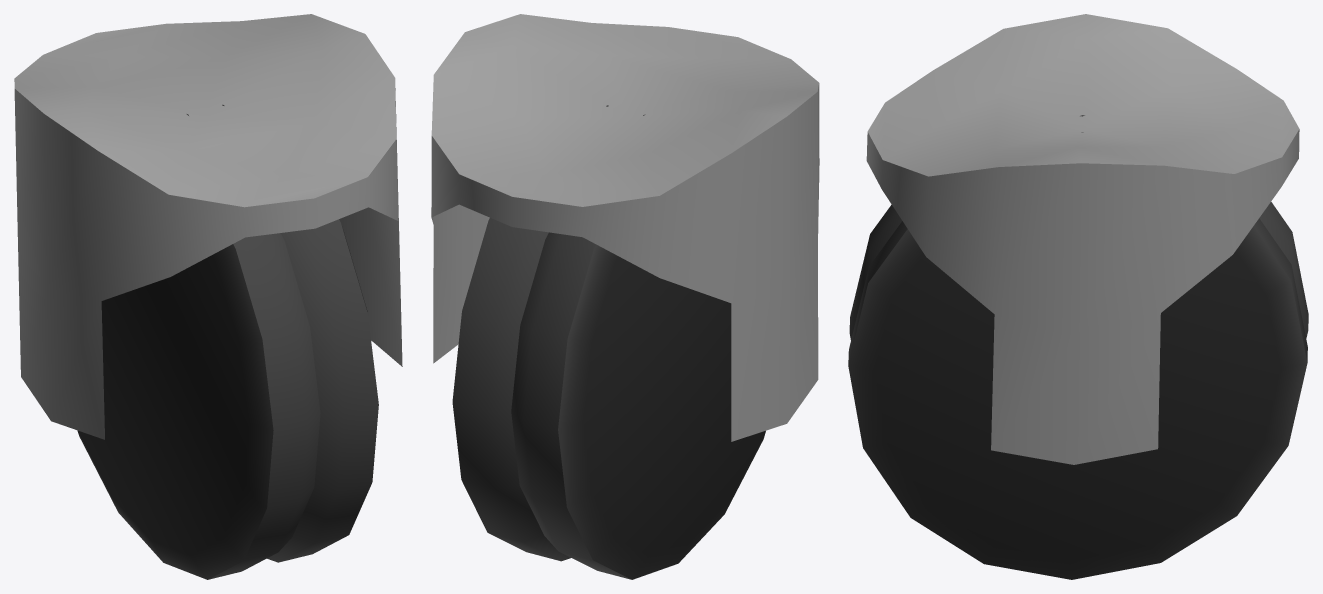
The model's file is Wheel.glb.
3 views of the same model, side by side, from view 1: azimuth 30°, elevation 25°; view 2: azimuth 150°, elevation 25°; view 3: azimuth 270°, elevation 25° (orthographic). The views are drawn at different scales.
Parts seen in each view (by area): view 1: WheelRL; view 2: WheelRL; view 3: WheelRL.
Boxes of the visible parts, box(x1,y1,x2,y2) form: WheelRL: box(14, 14, 402, 579); WheelRL: box(431, 14, 819, 579); WheelRL: box(848, 14, 1308, 579).
Size of the model in its own units: 0.078 by 0.1098 by 0.0983.
Materials: 1 (1 with a texture image).
